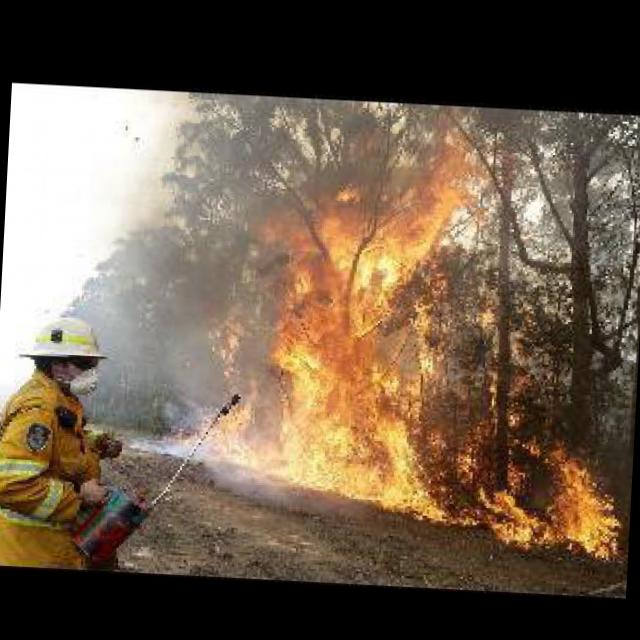fire: (191, 96, 640, 561)
smoke: (115, 386, 217, 461)
